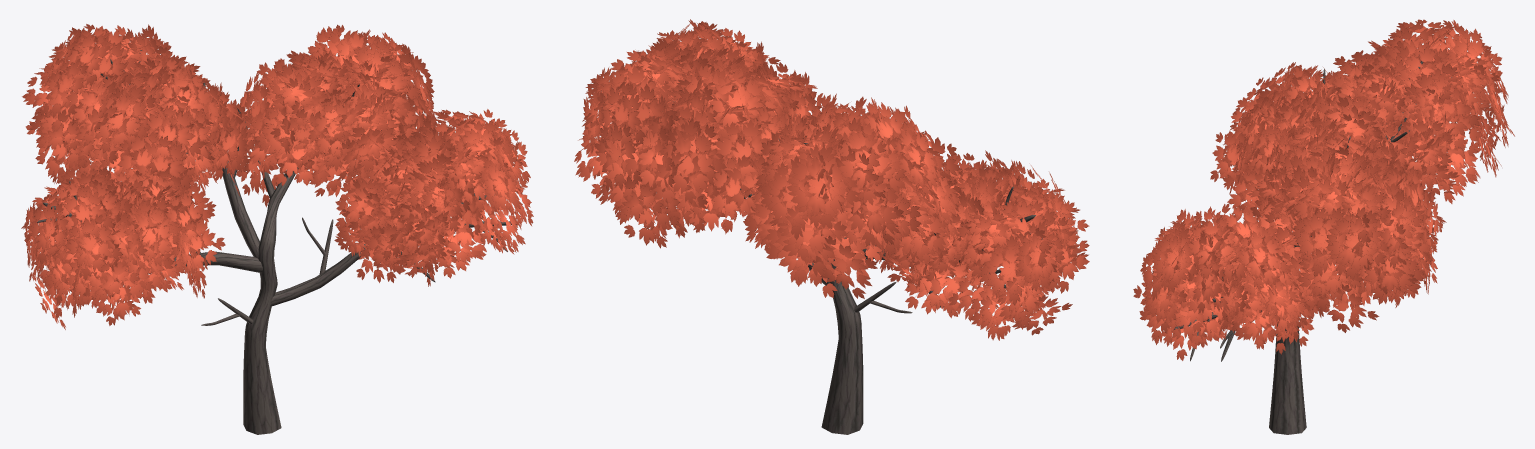
The model's file is MapleTree_3.glb.
3 views of the same model, side by side, from view 1: azimuth 30°, elevation 25°; view 2: azimuth 150°, elevation 25°; view 3: azimuth 270°, elevation 25° (orthographic). The views are drawn at different scales.
Bounding box in the file's own units: 8.98 × 6.99 × 6.61.
2 materials, 2 textured.
